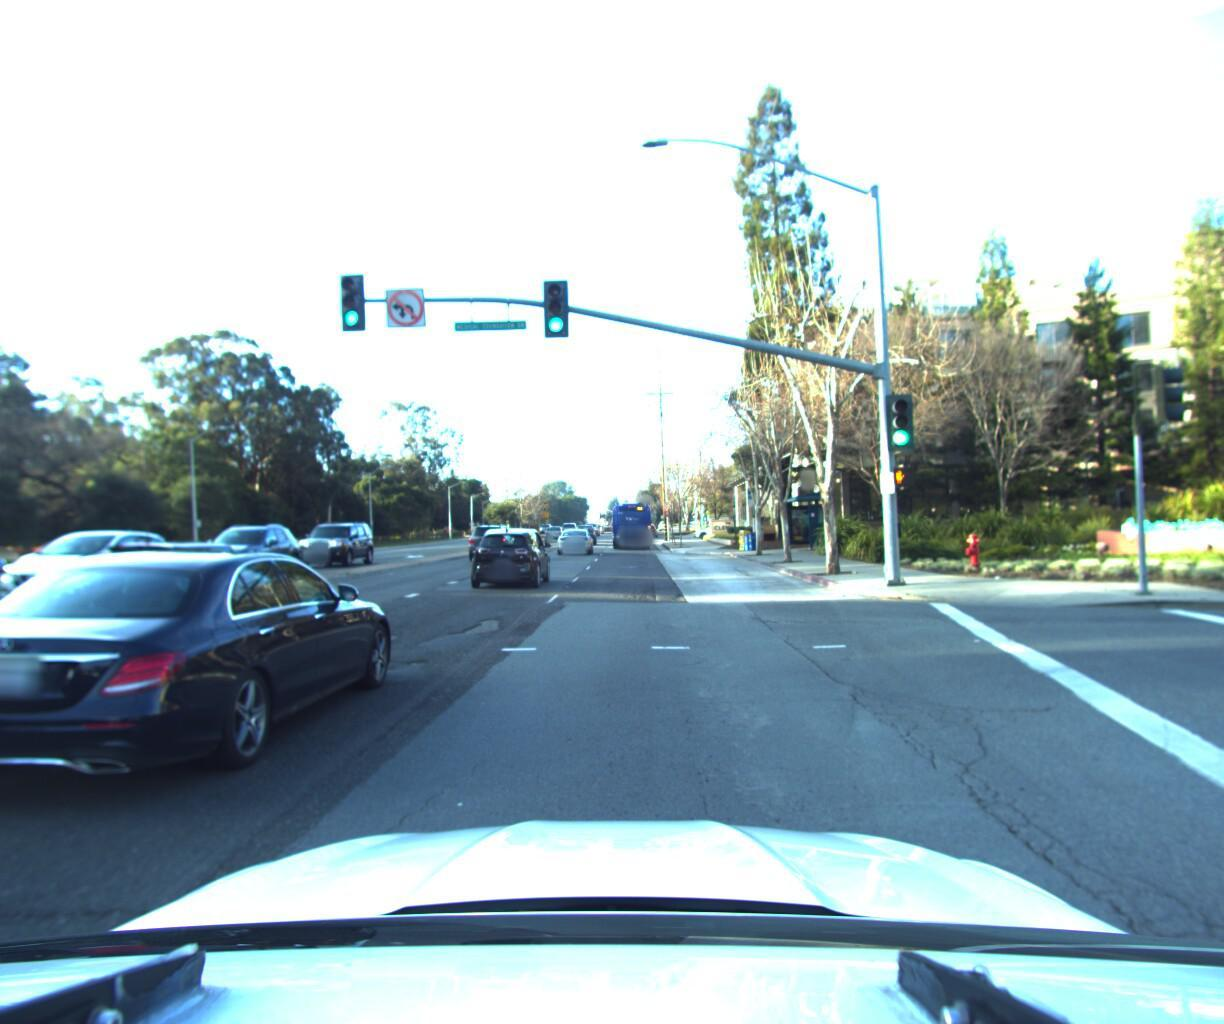bus: (612, 492, 656, 550)
car: (0, 533, 402, 820), (21, 532, 267, 657), (0, 529, 193, 614), (186, 523, 310, 590), (468, 521, 555, 589), (296, 520, 379, 573), (464, 522, 518, 561), (555, 521, 594, 554), (692, 518, 740, 538), (0, 550, 20, 597), (544, 523, 567, 542)
